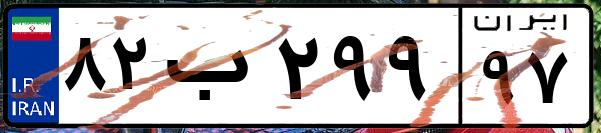2: (270, 28, 330, 110), (110, 28, 158, 98)
7: (525, 38, 570, 115)
8: (57, 26, 110, 100)
9: (385, 28, 445, 110), (330, 28, 385, 110), (475, 38, 525, 113)
ب: (158, 20, 270, 120)
